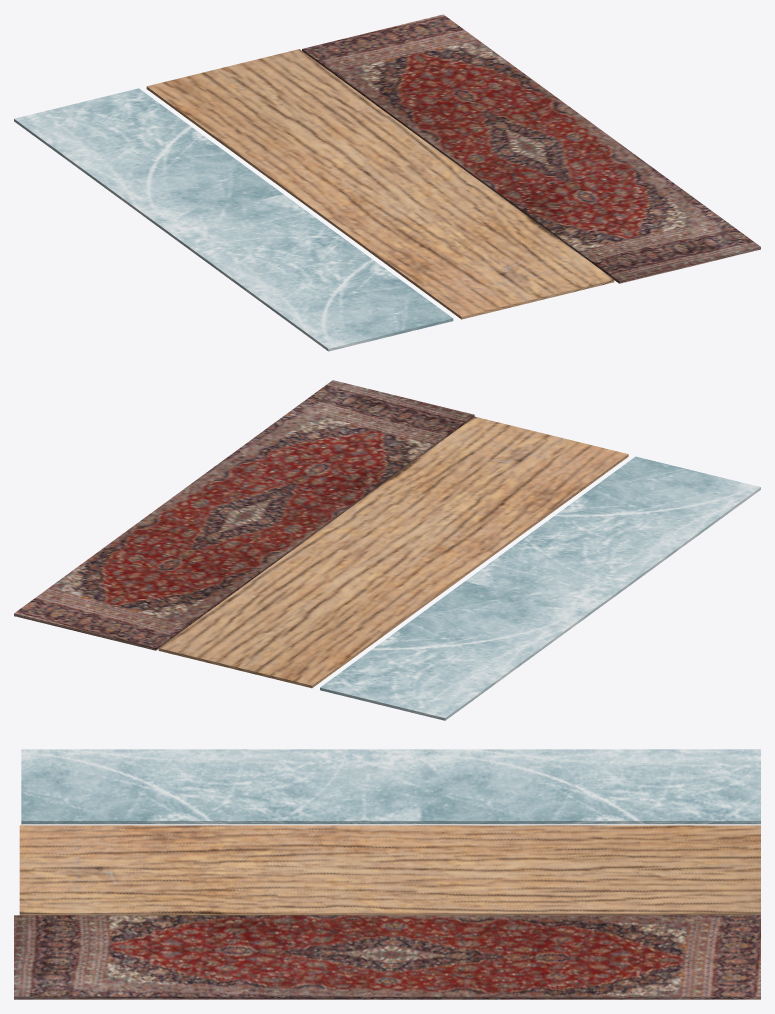
Rendered from ice.fbx.
3 renders of one model, top to bottom at view 1: azimuth 30°, elevation 25°; view 2: azimuth 150°, elevation 25°; view 3: azimuth 270°, elevation 25°, orthographic. The views are drawn at different scales.
Parts seen in each view (by area): view 1: ice1; view 2: ice1; view 3: ice1.
Part boxes in pixels (left/top/right/bottom): ice1: left=14, top=14, right=760, bottom=351; ice1: left=14, top=380, right=760, bottom=720; ice1: left=14, top=749, right=760, bottom=999.
Size of the model in its own units: 1024 by 7.25 by 1311.
Materials: 1 (1 with a texture image).
